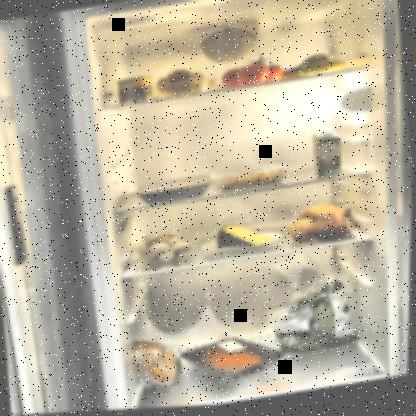banana: (260, 51, 354, 86)
beef: (178, 330, 293, 390)
cheese: (213, 220, 275, 256)
corn: (114, 74, 157, 107)
heavy_cream: (311, 130, 345, 182)
mushrooms: (138, 228, 197, 268)
potato: (153, 65, 223, 102)
shrimp: (217, 169, 289, 193)
spinach: (269, 279, 363, 359)
sweet_potato: (286, 201, 358, 252)
tomato: (220, 50, 286, 91)
